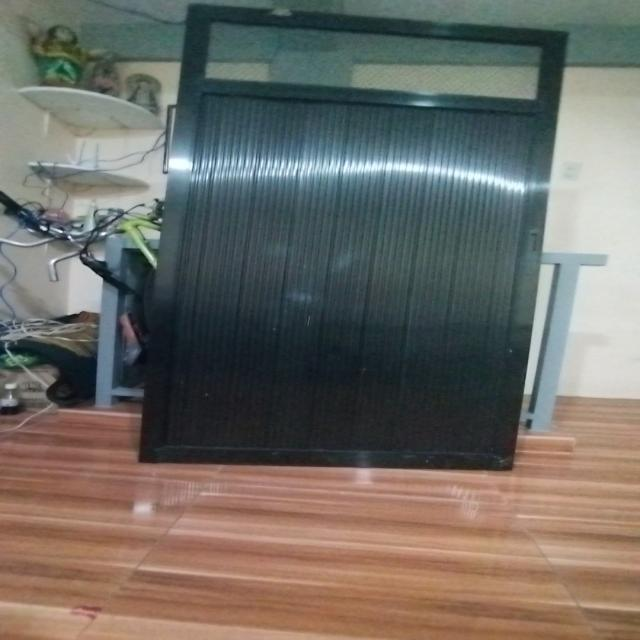door: (143, 0, 555, 469)
